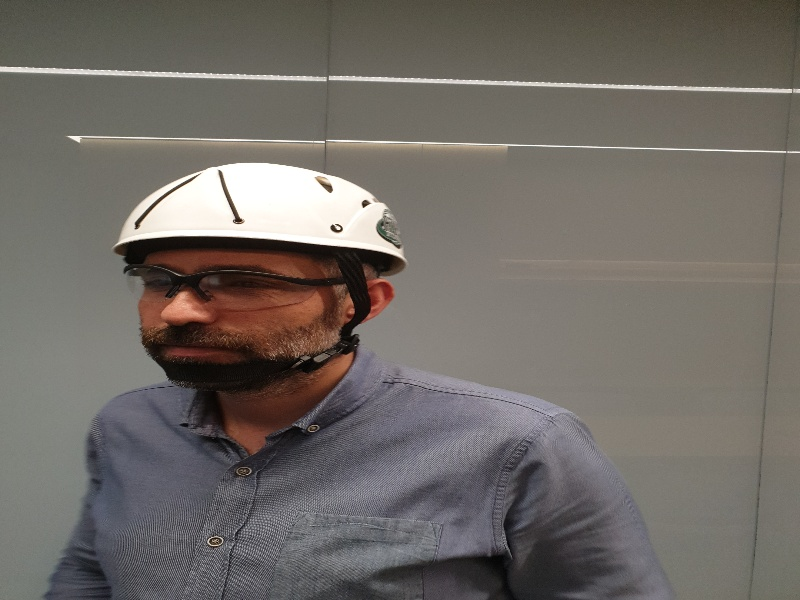Baret: (118, 160, 405, 262)
Gozluk: (120, 260, 354, 312)
